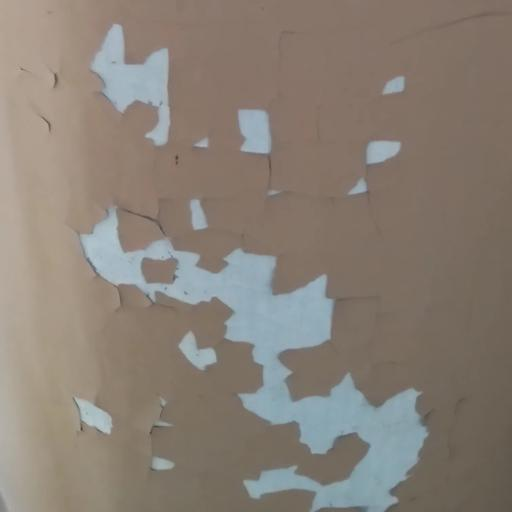peeling: (50, 180, 436, 512), (55, 33, 436, 203)
